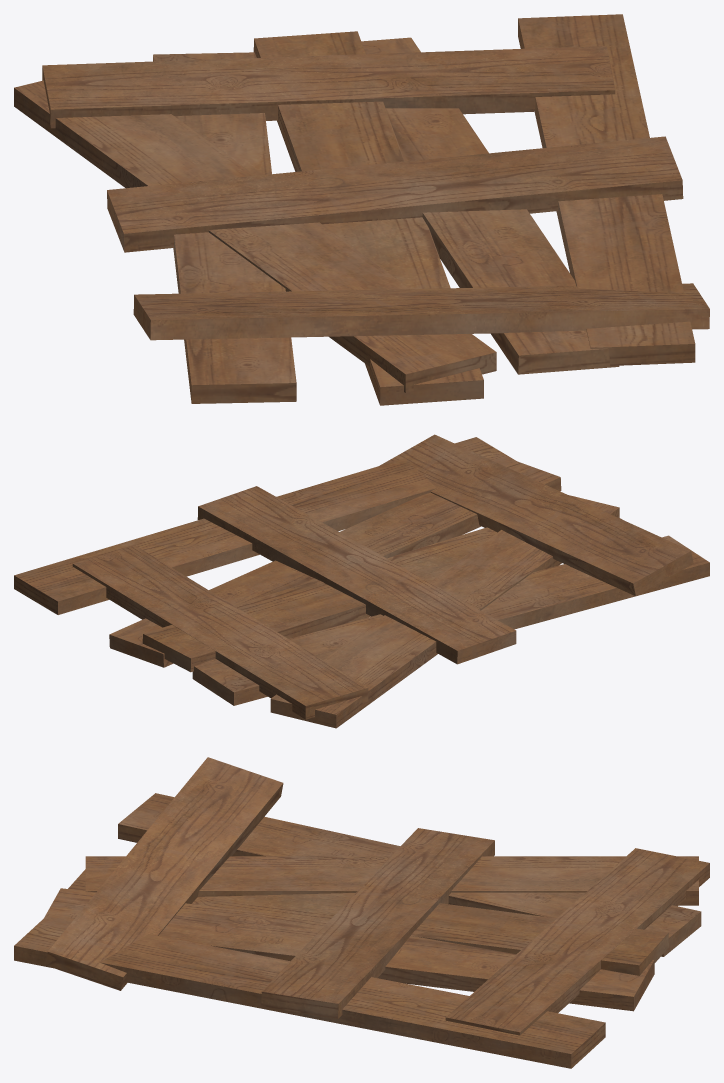
The model's file is woodplatform.fbx.
3 views of the same model, one above another, from view 1: azimuth 30°, elevation 25°; view 2: azimuth 150°, elevation 25°; view 3: azimuth 270°, elevation 25° (orthographic). The views are drawn at different scales.
Visible parts, largest first — view 1: Cube.007; view 2: Cube.007; view 3: Cube.007.
Boxes of the visible parts, box(x1,y1,x2,y2) form: Cube.007: box(14, 14, 709, 405); Cube.007: box(14, 434, 709, 728); Cube.007: box(14, 757, 709, 1068).
Size of the model in its own units: 544 by 52.64 by 593.
